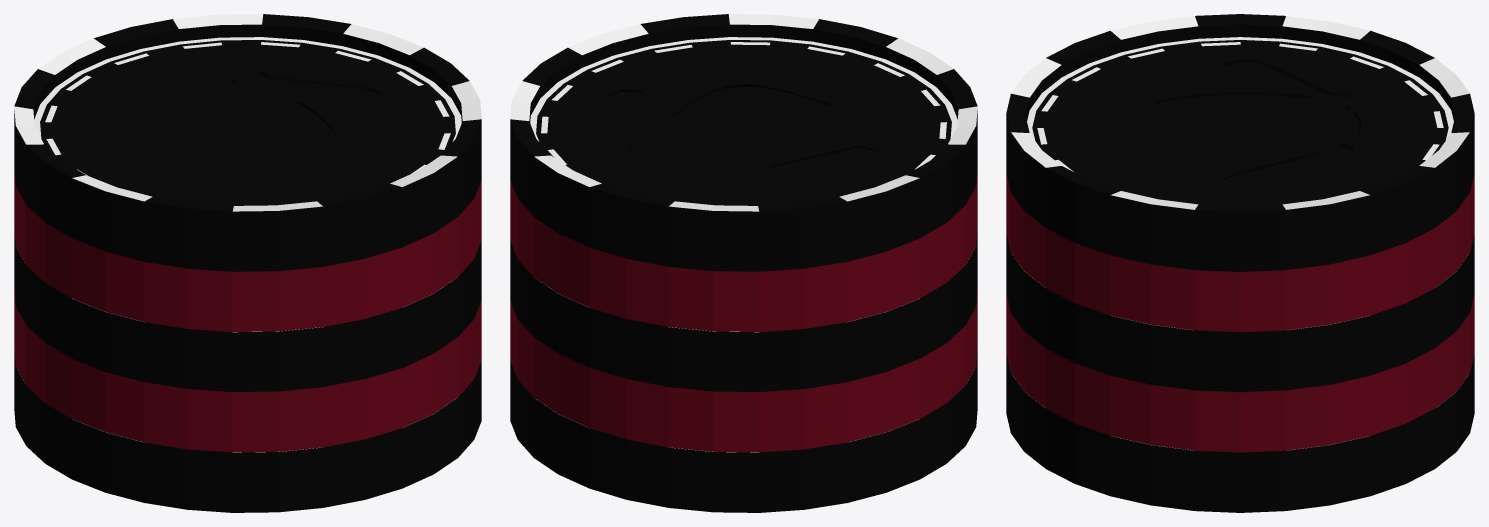
File: poker chip 5 stack (plain).fbx
The picture shows the model from 3 angles, left to right: view 1: azimuth 30°, elevation 25°; view 2: azimuth 150°, elevation 25°; view 3: azimuth 270°, elevation 25°; orthographic projection.
Visible parts, largest first — view 1: Cylinder.004; view 2: Cylinder.004; view 3: Cylinder.004.
Part boxes in pixels (box(x1,y1,x2,y2)): Cylinder.004: box(14, 14, 481, 512); Cylinder.004: box(510, 14, 977, 512); Cylinder.004: box(1006, 14, 1474, 512).
Bounding box in the file's own units: 200 × 142 × 200.
